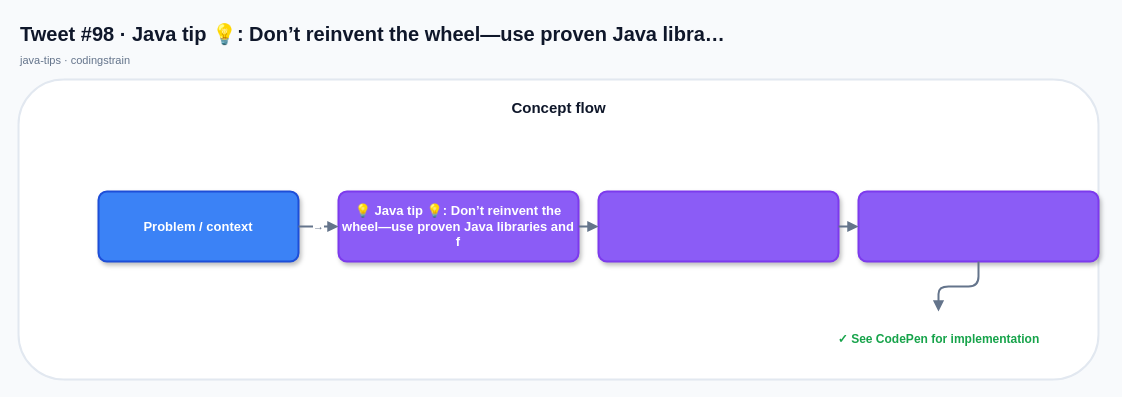
The diagram is 1122 pixels wide and 397 high, and some of its shapes have lost their labels. The centre of each missing label's shape, as x and y in pixels:
Java tip 💡: Don’t reinvent the wheel—use proven Java libraries and fra: (719,227)
Runnable sample: `java-tips`: (979,227)
